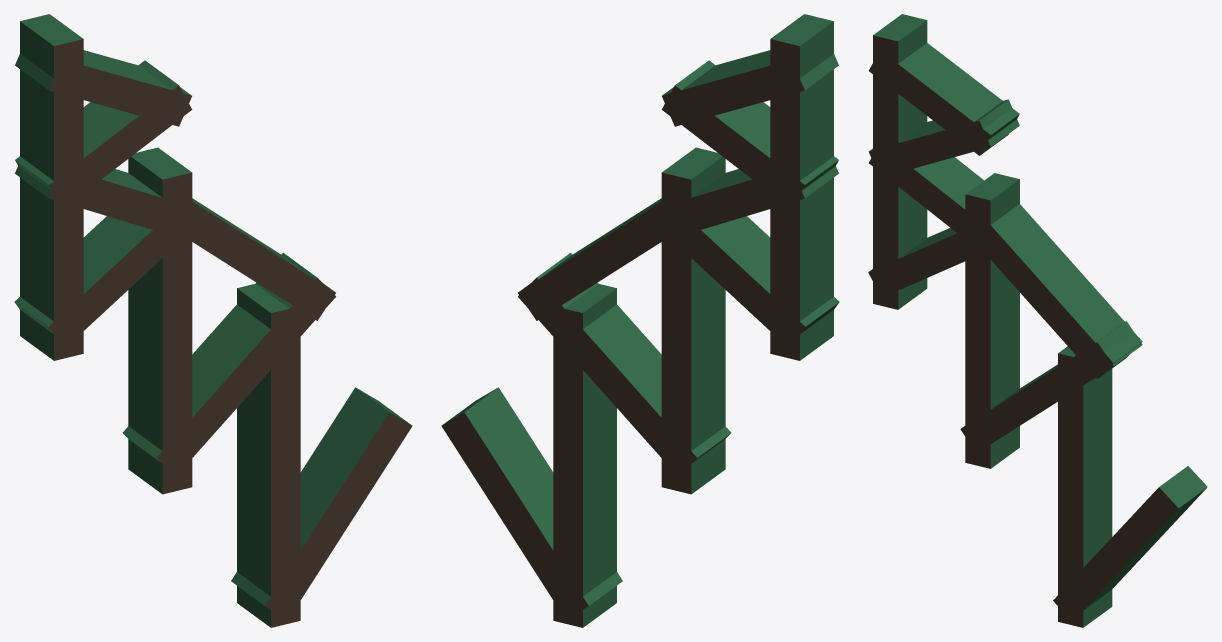
File: bdl-cascade-day.glb
3 views of the same model, side by side, from view 1: azimuth 30°, elevation 25°; view 2: azimuth 150°, elevation 25°; view 3: azimuth 330°, elevation 25° (orthographic). The views are drawn at different scales.
Visible parts, largest first — view 1: d24-B-trunk, d24-L-trunk, d24-D-trunk, d24-L-foot, d24-D-dn, d24-B-bot-dn, d24-B-top-up, d24-B-top-dn, d24-D-up, d24-B-bot-up; view 2: d24-B-trunk, d24-L-trunk, d24-D-trunk, d24-L-foot, d24-D-dn, d24-B-bot-dn, d24-B-top-dn, d24-B-top-up, d24-D-up, d24-B-bot-up; view 3: d24-L-trunk, d24-D-trunk, d24-B-trunk, d24-D-up, d24-B-top-up, d24-L-foot, d24-D-dn, d24-B-bot-up, d24-B-top-dn, d24-B-bot-dn.
Boxes of the visible parts, x1,y1,x2,y2 form: d24-B-trunk: [20, 14, 83, 360]; d24-L-trunk: [237, 283, 300, 627]; d24-D-trunk: [128, 147, 192, 494]; d24-L-foot: [231, 387, 412, 619]; d24-D-dn: [122, 252, 335, 476]; d24-B-bot-dn: [14, 199, 202, 348]; d24-B-top-up: [15, 50, 191, 126]; d24-B-top-dn: [15, 60, 192, 209]; d24-D-up: [157, 192, 335, 320]; d24-B-bot-up: [15, 166, 201, 240]; d24-B-trunk: [770, 14, 833, 360]; d24-L-trunk: [553, 283, 616, 627]; d24-D-trunk: [661, 147, 725, 494]; d24-L-foot: [441, 387, 622, 619]; d24-D-dn: [518, 252, 731, 476]; d24-B-bot-dn: [651, 199, 839, 348]; d24-B-top-dn: [661, 60, 838, 209]; d24-B-top-up: [662, 50, 838, 126]; d24-D-up: [518, 191, 696, 320]; d24-B-bot-up: [652, 166, 838, 240]; d24-L-trunk: [1058, 346, 1112, 627]; d24-D-trunk: [965, 173, 1019, 468]; d24-B-trunk: [873, 14, 927, 309]; d24-D-up: [962, 204, 1142, 378]; d24-B-top-up: [869, 43, 1019, 155]; d24-L-foot: [1053, 466, 1207, 617]; d24-D-dn: [960, 321, 1142, 448]; d24-B-bot-up: [869, 143, 998, 256]; d24-B-top-dn: [868, 99, 1019, 168]; d24-B-bot-dn: [868, 221, 999, 290].
Bounding box in the file's own units: 1.48 × 2.46 × 0.24.
